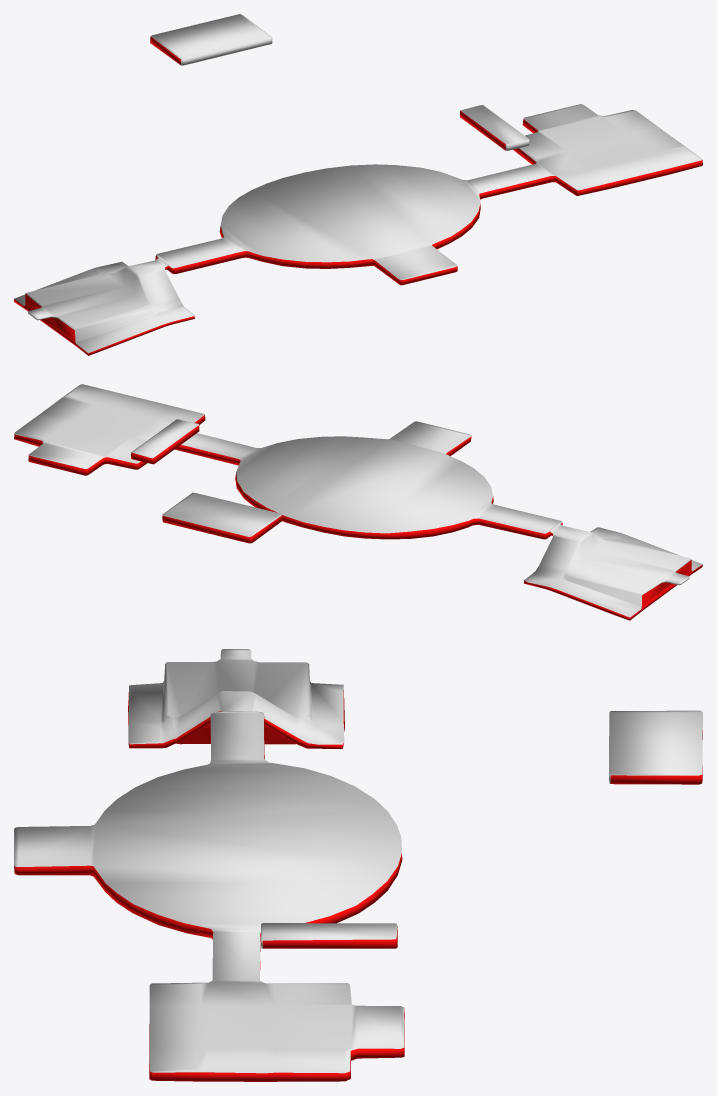
The model's file is LowPoly_sol.fbx.
3 views of the same model, one above another, from view 1: azimuth 30°, elevation 25°; view 2: azimuth 150°, elevation 25°; view 3: azimuth 270°, elevation 25° (orthographic). The views are drawn at different scales.
Parts seen in each view (by area): view 1: LowPoly_sol_V2; view 2: LowPoly_sol_V2; view 3: LowPoly_sol_V2.
Part boxes in pixels (x1,y1,x2,y2): LowPoly_sol_V2: [14, 14, 702, 355]; LowPoly_sol_V2: [14, 384, 702, 620]; LowPoly_sol_V2: [14, 649, 702, 1081].
Size of the model in its own units: 21915 by 3656 by 14076.
